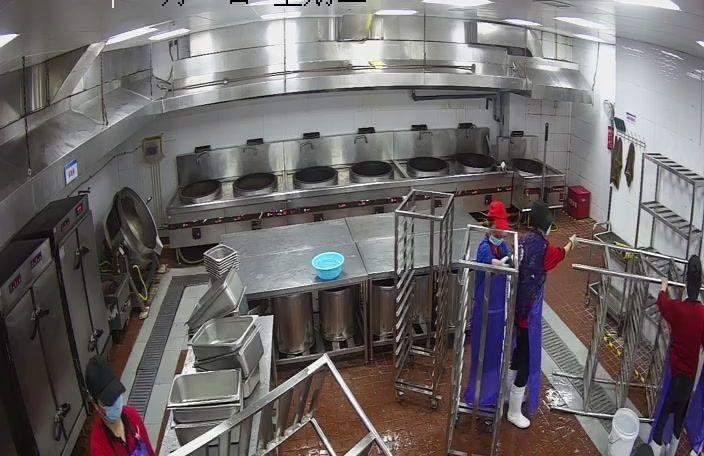mask: (491, 228, 508, 248)
